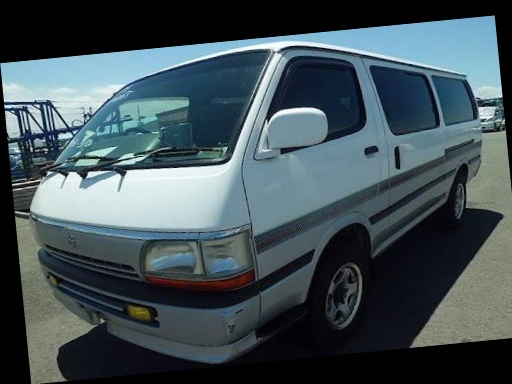van: (19, 28, 501, 356)
